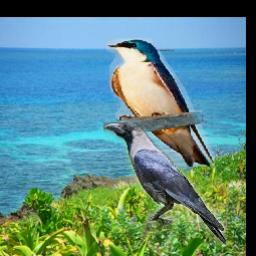Crow: (103, 123, 226, 245)
Swallow: (106, 38, 215, 167)
